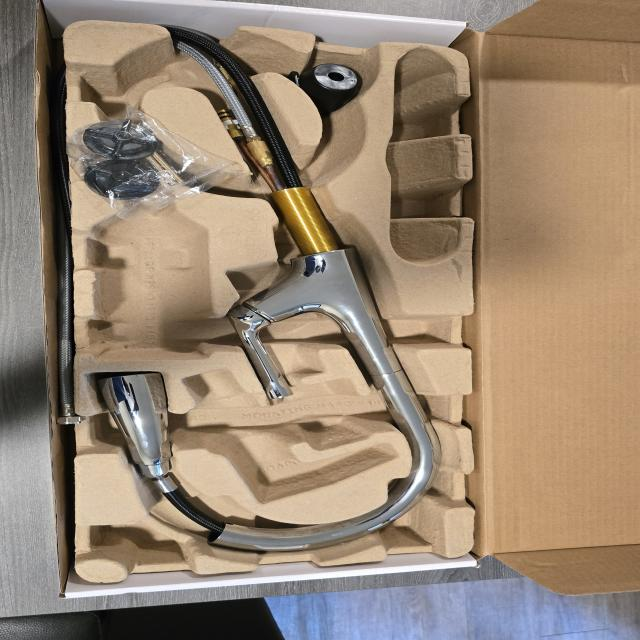1: (97, 24, 447, 553)
2m: (185, 369, 396, 503)
3m: (87, 188, 211, 360)
4m: (383, 49, 459, 265)
5: (290, 63, 363, 112)
6m: (82, 54, 175, 109)
7: (59, 103, 253, 223)
